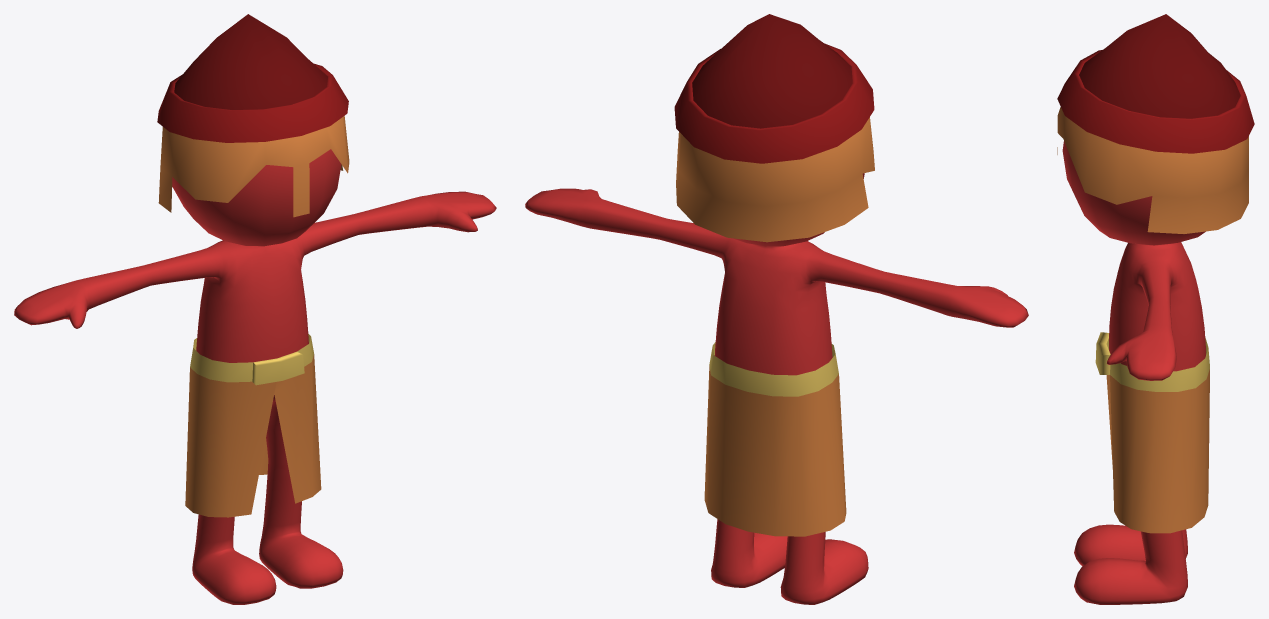
Rendered from Enemy2_v1.fbx.
3 views of the same model, side by side, from view 1: azimuth 30°, elevation 25°; view 2: azimuth 150°, elevation 25°; view 3: azimuth 270°, elevation 25° (orthographic). The views are drawn at different scales.
Parts seen in each view (by area): view 1: polySurface30, polySurface29, polySurface43; view 2: polySurface29, polySurface30, polySurface43; view 3: polySurface29, polySurface30, polySurface43.
Part boxes in pixels (x1,y1,x2,y2): polySurface30: (14,149,496,604); polySurface29: (157,14,349,217); polySurface43: (185,334,321,517); polySurface29: (674,14,874,242); polySurface30: (525,173,1028,604); polySurface43: (704,342,846,536); polySurface29: (1057,14,1254,233); polySurface30: (1062,141,1205,604); polySurface43: (1095,332,1209,533).
Bounding box in the file's own units: 678 × 753 × 239.
